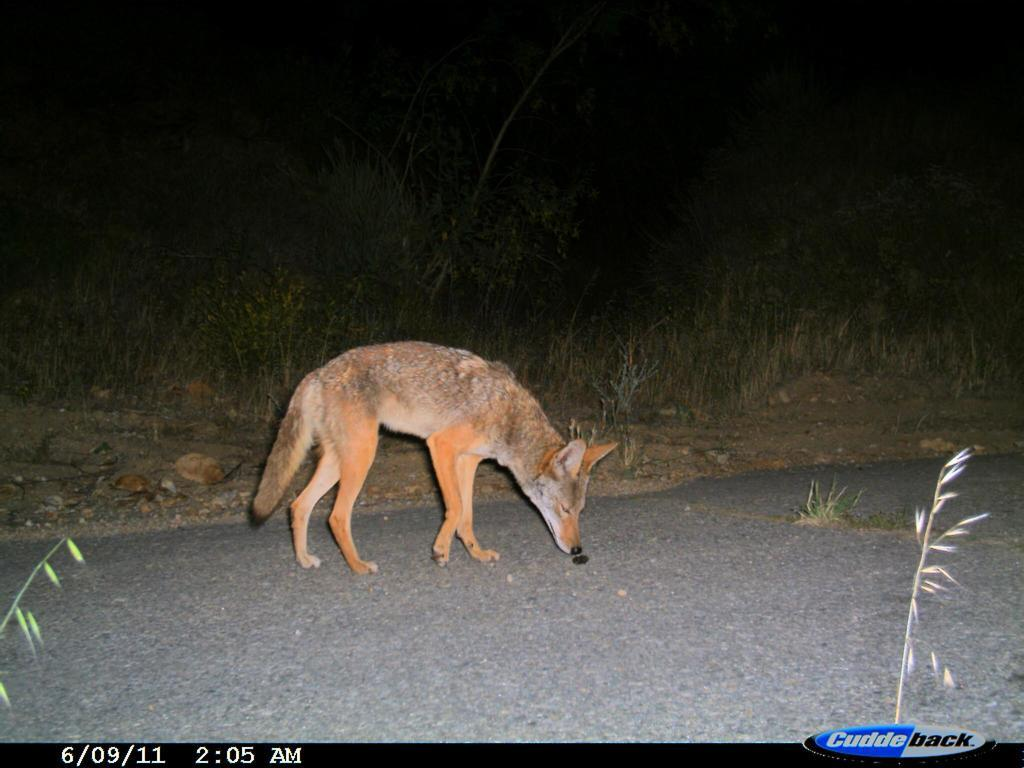coyote: (239, 333, 632, 588)
